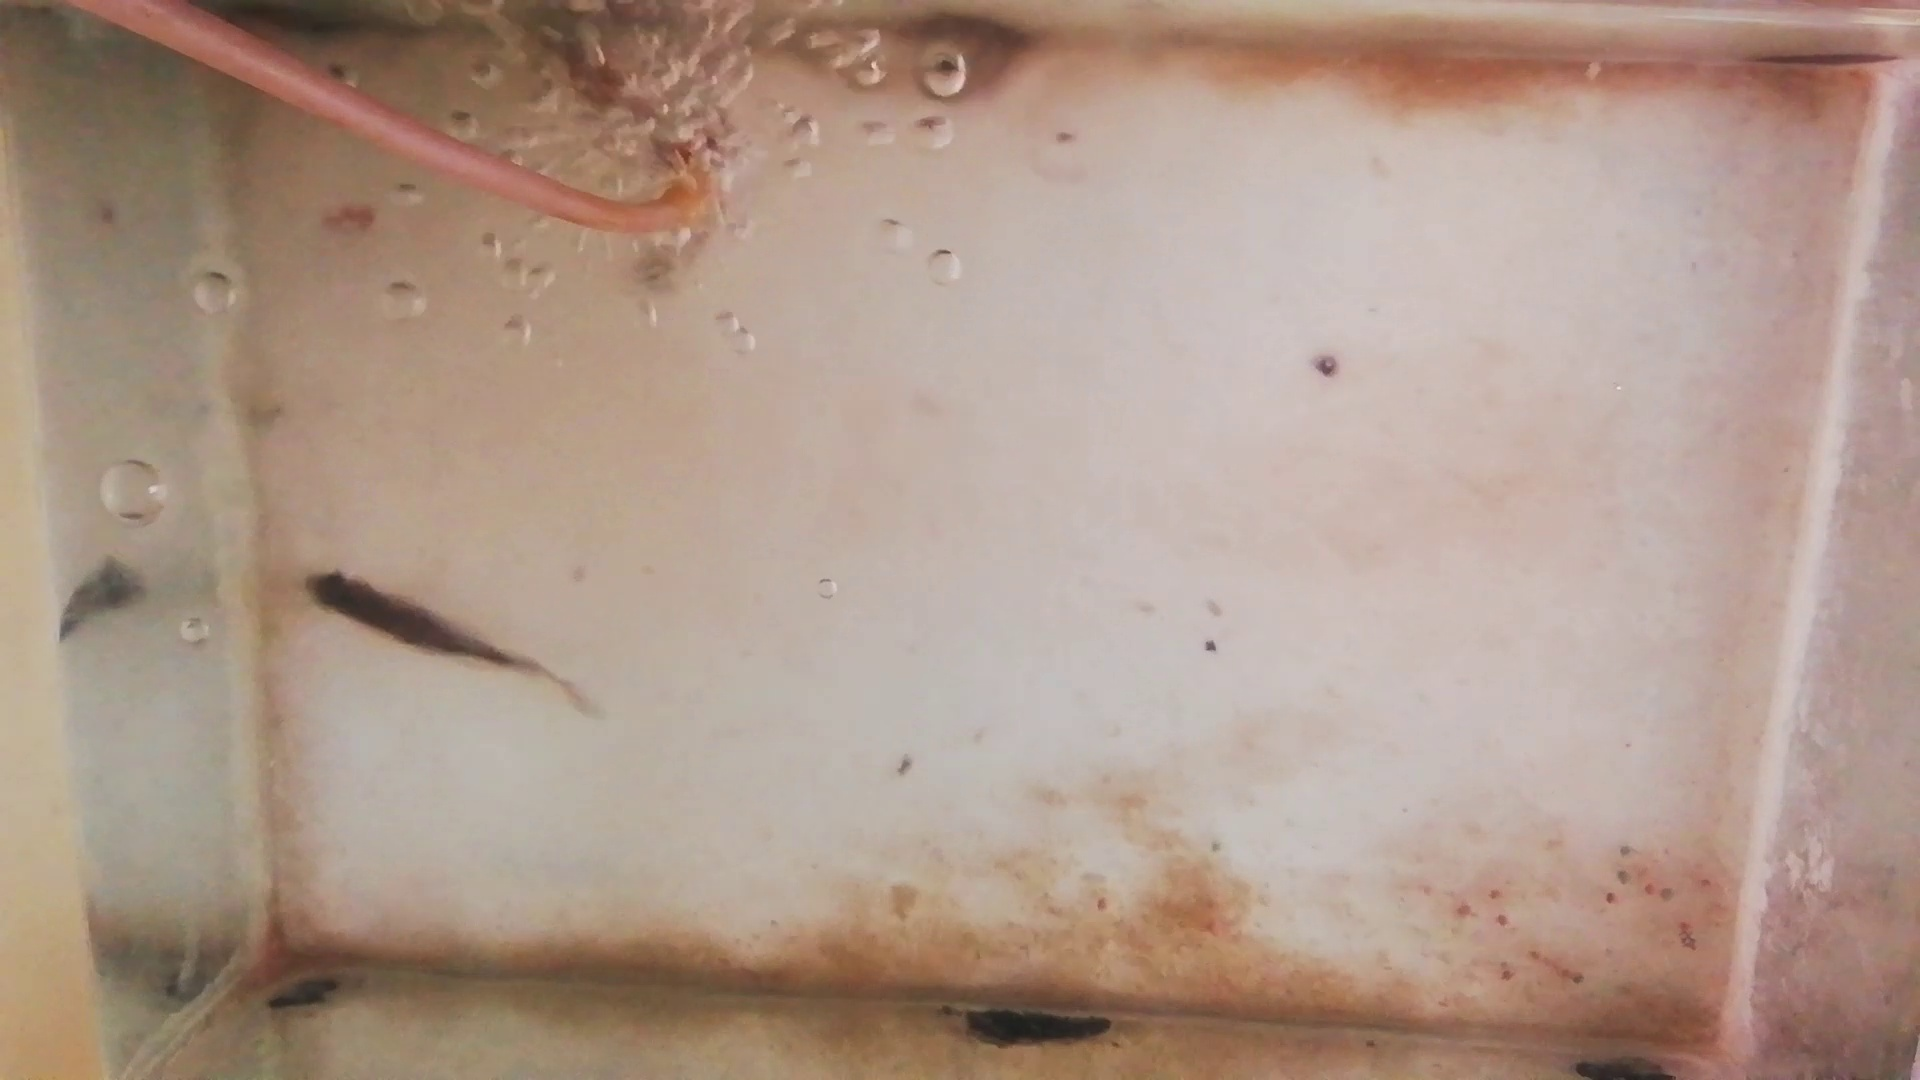fish: (302, 570, 514, 665), (545, 18, 645, 132)
